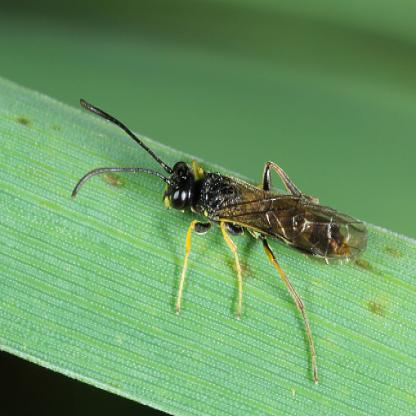sawfly: (66, 91, 368, 384)
